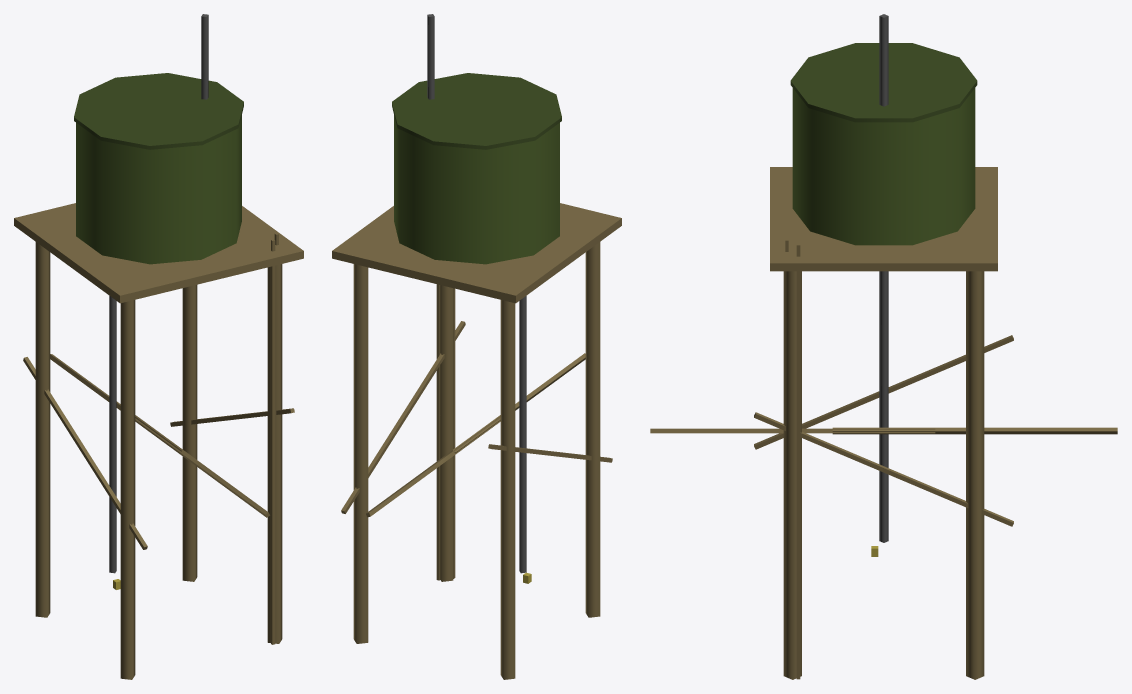
File: water-tower.glb
3 renders of one model, left to right at view 1: azimuth 30°, elevation 25°; view 2: azimuth 150°, elevation 25°; view 3: azimuth 270°, elevation 25°, orthographic. The views are drawn at different scales.
Visible parts, largest first — view 1: Mesh_Tank, Mesh_Platform, Mesh_TankLid, Mesh_LegFL, Mesh_LegBL, Mesh_LegBR, Mesh_LegFR, Mesh_OutletPipe, Mesh_LadderRailL, Mesh_BraceLeft, Mesh_BraceFront, Mesh_BraceBack (+2 smaller); view 2: Mesh_Tank, Mesh_Platform, Mesh_TankLid, Mesh_LegBL, Mesh_LegBR, Mesh_LegFL, Mesh_LegFR, Mesh_OutletPipe, Mesh_LadderRailR, Mesh_BraceRight, Mesh_BraceBack, Mesh_LadderRailL (+3 smaller); view 3: Mesh_Tank, Mesh_TankLid, Mesh_Platform, Mesh_LegBR, Mesh_LegFR, Mesh_OutletPipe, Mesh_LadderRailR, Mesh_BraceBack, Mesh_BraceRight, Mesh_BraceLeft, Mesh_BraceFront, Mesh_FillPipe.
Boxes of the visible parts, x1=… form: Mesh_Tank: x1=76, y1=115, x2=241, y2=264; Mesh_Platform: x1=14, y1=203, x2=303, y2=303; Mesh_TankLid: x1=74, y1=73, x2=243, y2=149; Mesh_LegFL: x1=120, y1=300, x2=135, y2=679; Mesh_LegBL: x1=35, y1=242, x2=50, y2=617; Mesh_LegBR: x1=182, y1=285, x2=197, y2=581; Mesh_LegFR: x1=267, y1=264, x2=282, y2=643; Mesh_OutletPipe: x1=109, y1=296, x2=116, y2=573; Mesh_LadderRailL: x1=271, y1=239, x2=275, y2=644; Mesh_BraceLeft: x1=23, y1=357, x2=147, y2=549; Mesh_BraceFront: x1=135, y1=415, x2=269, y2=517; Mesh_BraceBack: x1=50, y1=354, x2=182, y2=454; Mesh_Tank: x1=394, y1=115, x2=559, y2=264; Mesh_Platform: x1=332, y1=203, x2=621, y2=303; Mesh_TankLid: x1=392, y1=73, x2=561, y2=149; Mesh_LegBL: x1=500, y1=300, x2=515, y2=679; Mesh_LegBR: x1=353, y1=264, x2=368, y2=643; Mesh_LegFL: x1=585, y1=242, x2=600, y2=617; Mesh_LegFR: x1=440, y1=285, x2=453, y2=581; Mesh_OutletPipe: x1=519, y1=296, x2=526, y2=573; Mesh_LadderRailR: x1=436, y1=284, x2=440, y2=580; Mesh_BraceRight: x1=341, y1=321, x2=465, y2=513; Mesh_BraceBack: x1=366, y1=416, x2=500, y2=517; Mesh_LadderRailL: x1=453, y1=288, x2=455, y2=578; Mesh_Tank: x1=792, y1=88, x2=975, y2=245; Mesh_TankLid: x1=790, y1=43, x2=977, y2=122; Mesh_Platform: x1=770, y1=167, x2=997, y2=271; Mesh_LegBR: x1=966, y1=271, x2=984, y2=679; Mesh_LegFR: x1=783, y1=271, x2=801, y2=679; Mesh_OutletPipe: x1=879, y1=271, x2=888, y2=542; Mesh_LadderRailR: x1=796, y1=244, x2=800, y2=679; Mesh_BraceBack: x1=832, y1=427, x2=1117, y2=434; Mesh_BraceRight: x1=754, y1=412, x2=1013, y2=526; Mesh_BraceLeft: x1=754, y1=335, x2=1013, y2=449; Mesh_BraceFront: x1=650, y1=428, x2=935, y2=433; Mesh_FillPipe: x1=879, y1=14, x2=888, y2=106.
Bounding box in the file's own units: 2 × 6.25 × 4.1.
